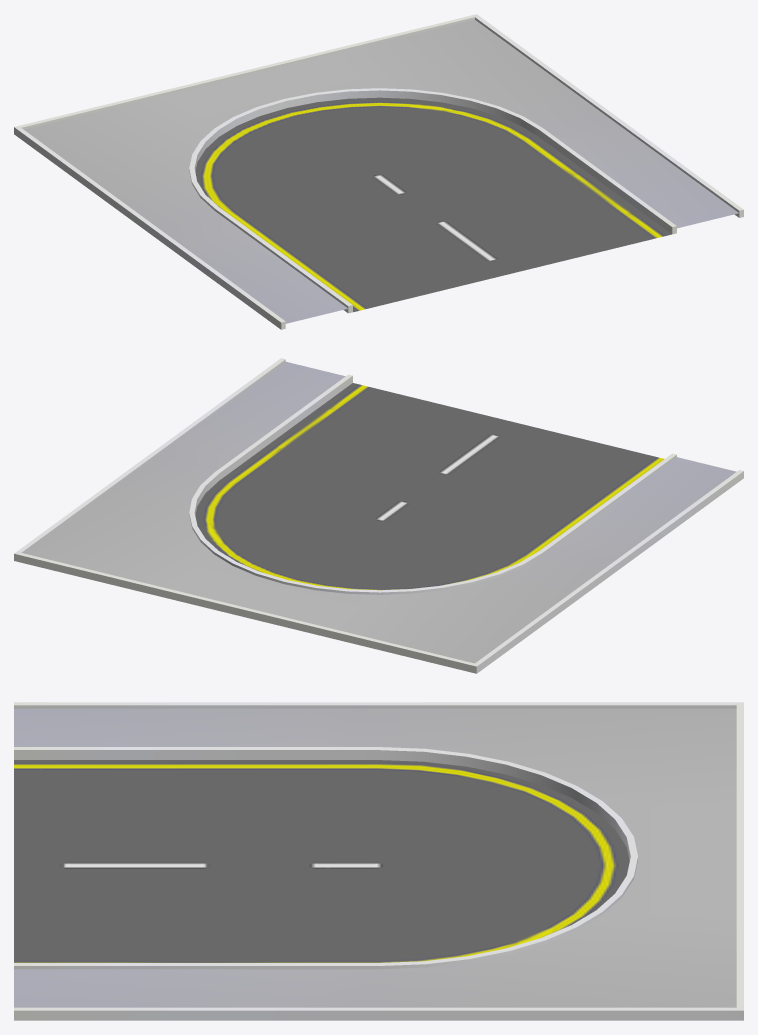
File: ROAD_deadlock.FBX
3 views of the same model, one above another, from view 1: azimuth 30°, elevation 25°; view 2: azimuth 150°, elevation 25°; view 3: azimuth 270°, elevation 25° (orthographic). The views are drawn at different scales.
Visible parts, largest first — view 1: ROAD_deadlock; view 2: ROAD_deadlock; view 3: ROAD_deadlock.
Part boxes in pixels (x1,y1,x2,y2): ROAD_deadlock: [14, 14, 743, 329]; ROAD_deadlock: [14, 358, 743, 673]; ROAD_deadlock: [14, 702, 743, 1020].
Bounding box in the file's own units: 1 × 0.015 × 1.
